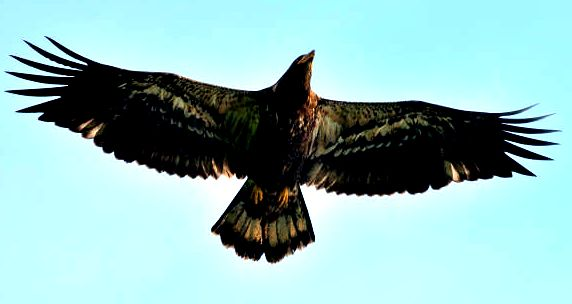Bird: (3, 30, 562, 265)
